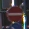No entry: (5, 5, 24, 24)
